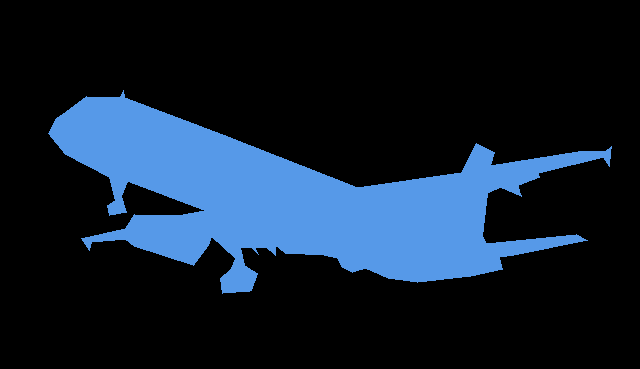Airplane: (48, 90, 611, 293)
